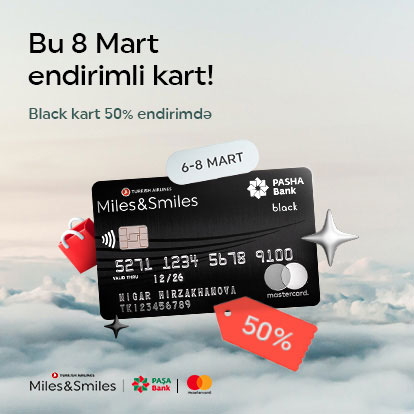Pasha Bank: (245, 175, 269, 199), (131, 374, 151, 394)
